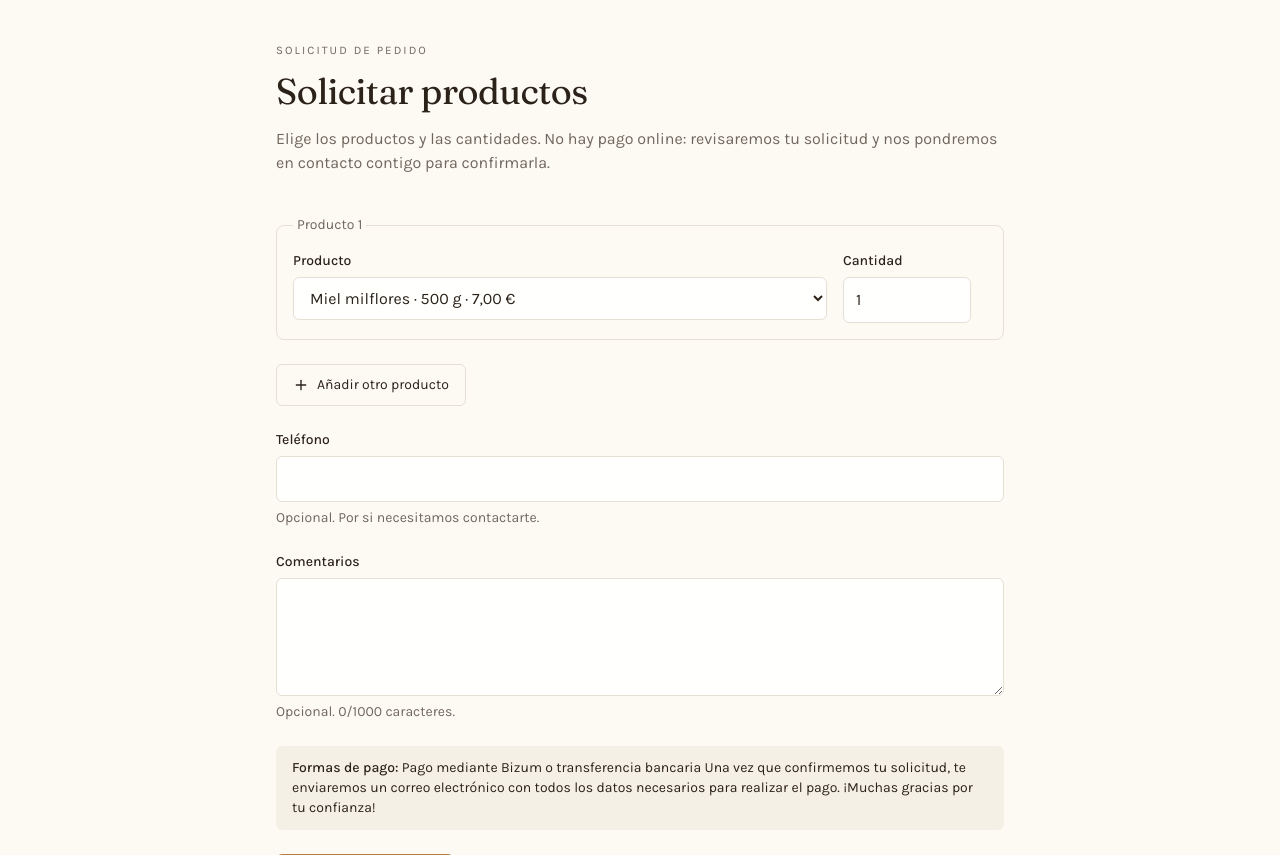
Test: OrderRequestView › envía la solicitud con el formato de la API y muestra la confirmación
Replace the text in the number field with id "order-line-0-quantity" with "2": (907, 300) [843, 277, 971, 323]
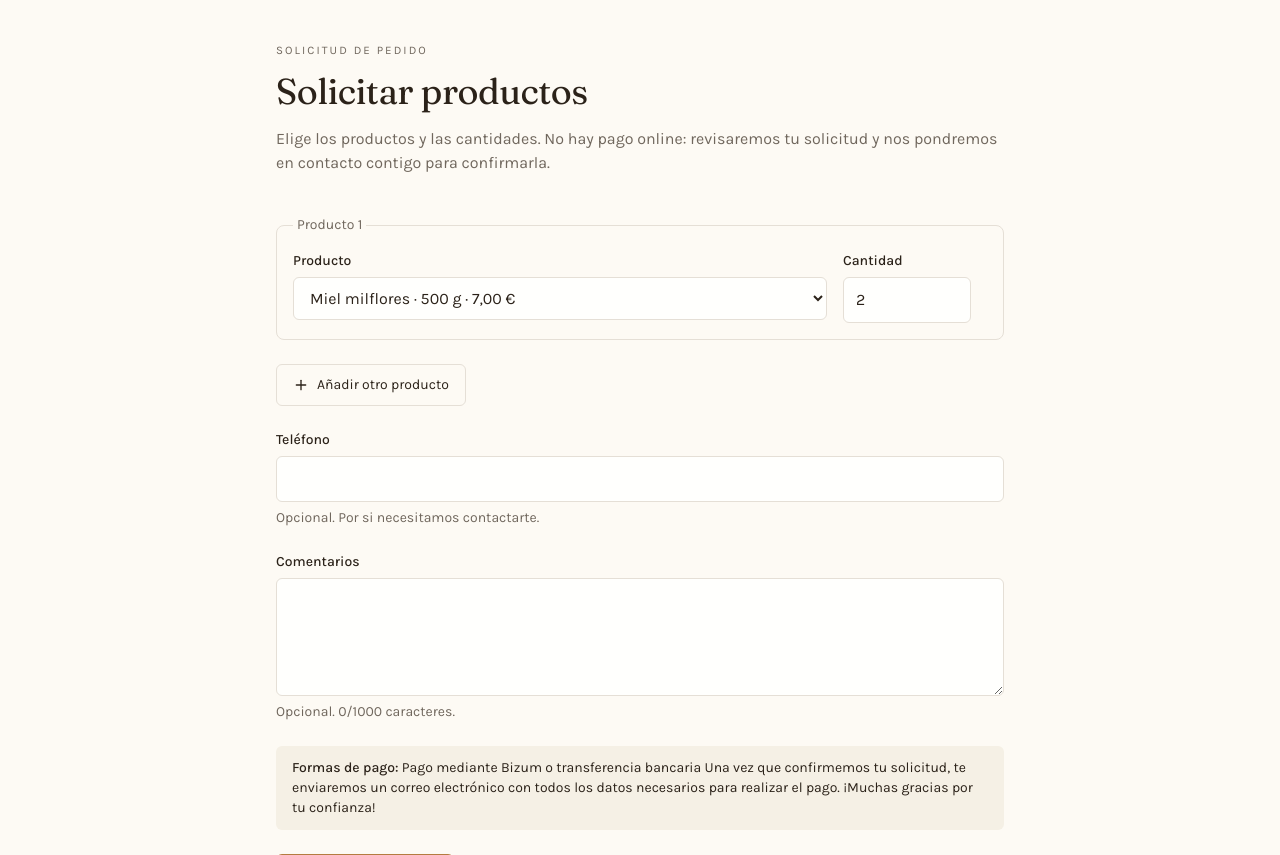
In the field with id "order-phone": (640, 479) [276, 456, 1004, 502], type "600 000 000"
(page scrolled)
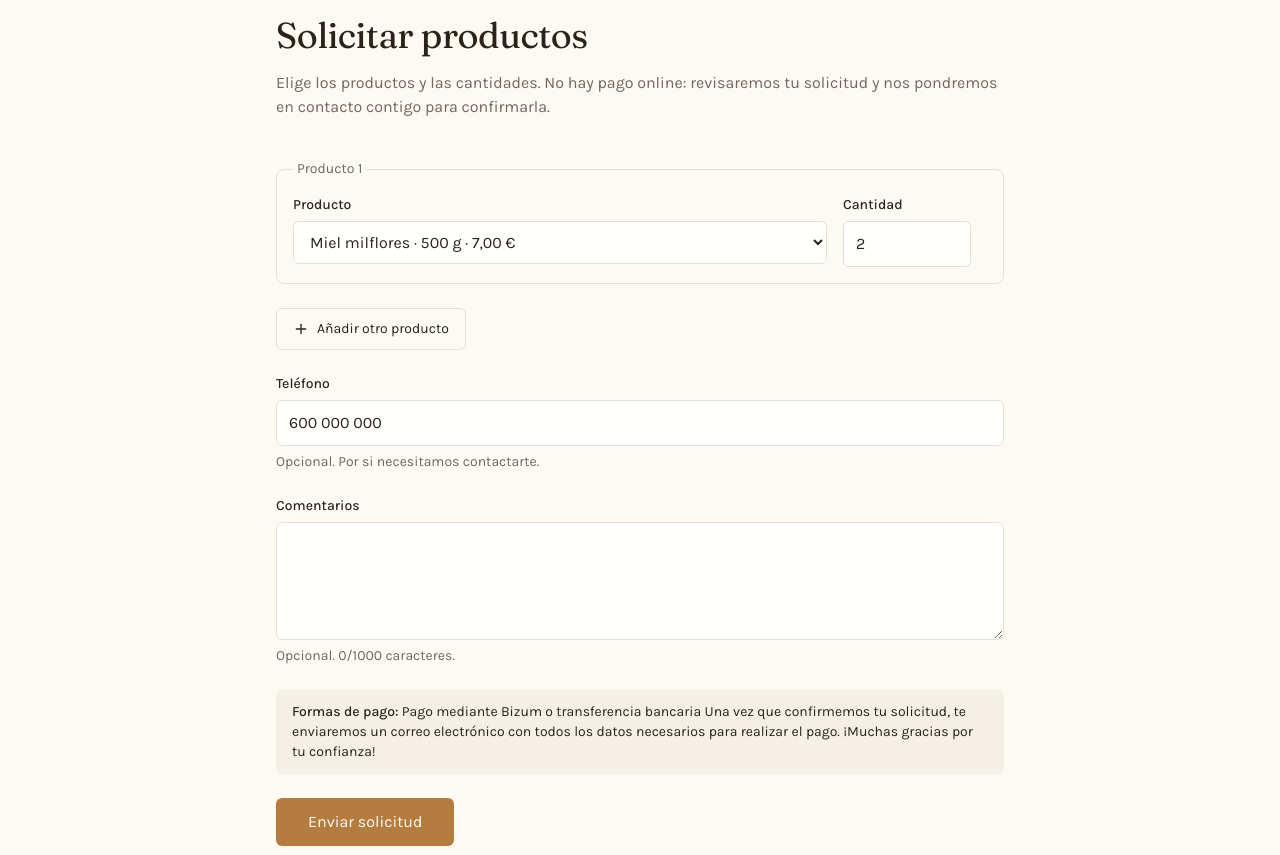
Submit the form, box [276, 159, 1004, 846]
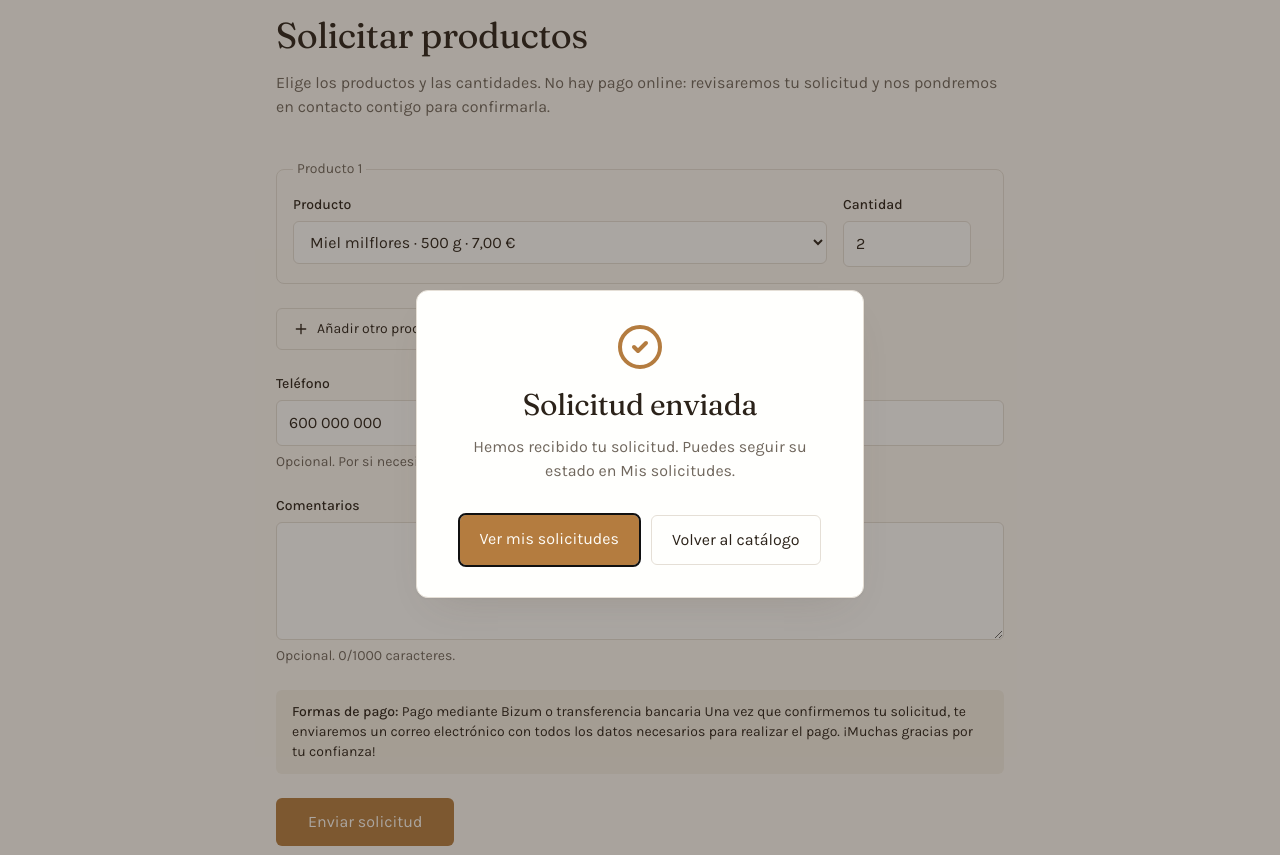
Expected: the dialog is shown, [416, 290, 864, 598]
